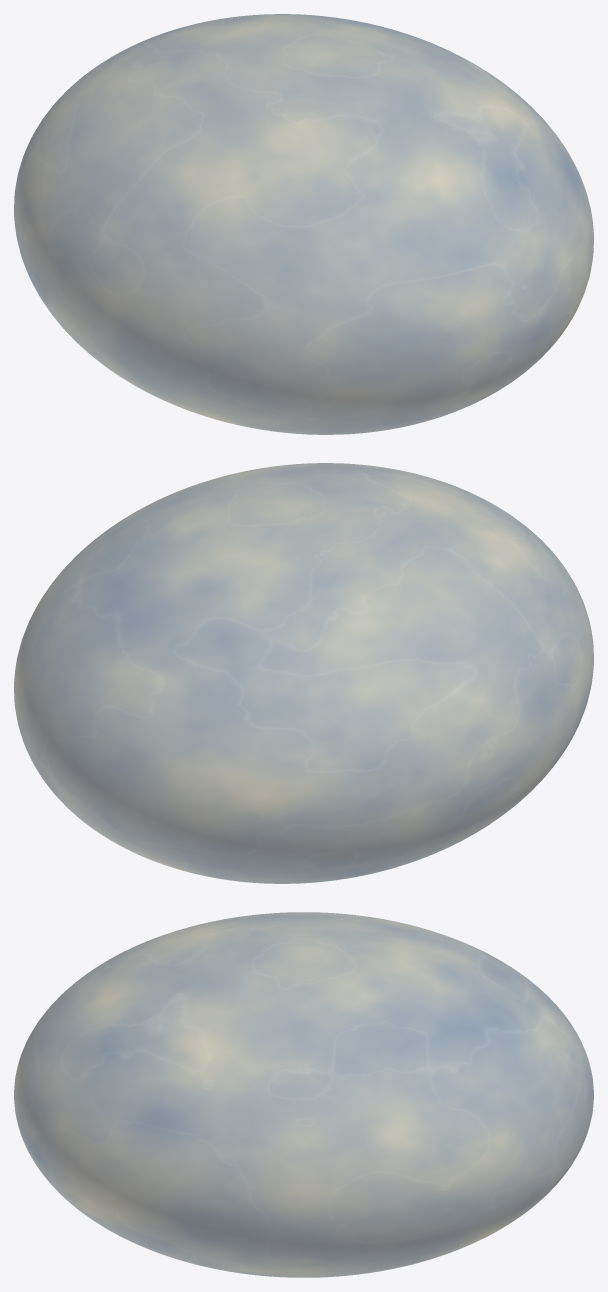
File: moonstone.glb
3 renders of one model, top to bottom at view 1: azimuth 30°, elevation 25°; view 2: azimuth 150°, elevation 25°; view 3: azimuth 270°, elevation 25°, orthographic. The views are drawn at different scales.
Parts seen in each view (by area): view 1: moonstone.001; view 2: moonstone.001; view 3: moonstone.001.
Part boxes in pixels (x1,y1,x2,y2): moonstone.001: (14, 14, 593, 434); moonstone.001: (14, 463, 593, 883); moonstone.001: (14, 912, 593, 1277).
Bounding box in the file's own units: 2.17 × 1.41 × 2.5.
1 material, 1 textured.
